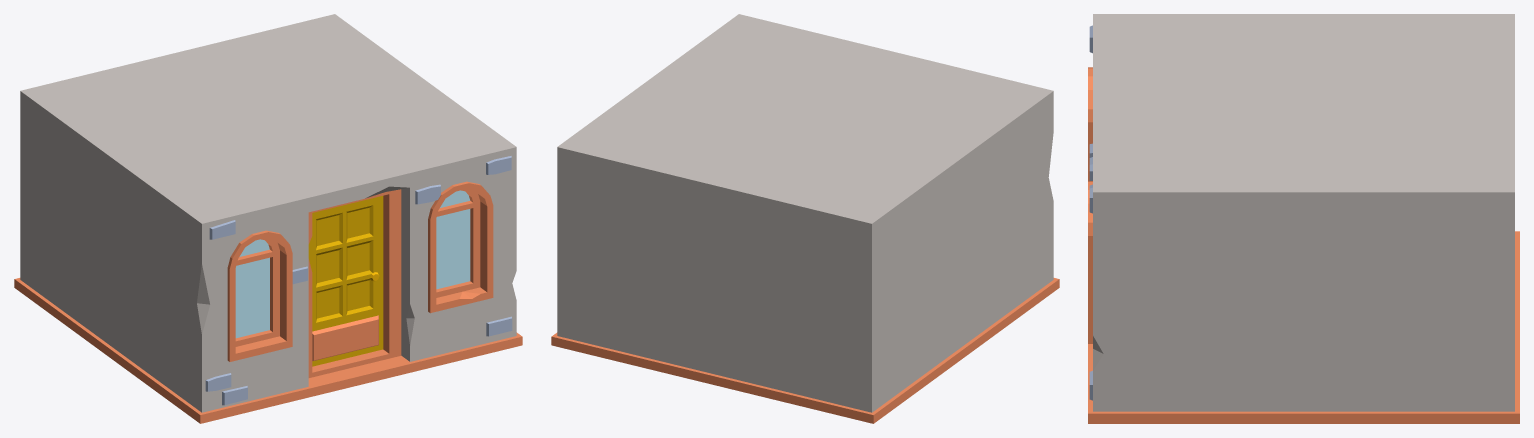
The model's file is SM_Bld_Apartment_Door_02_edit.fbx.
3 views of the same model, side by side, from view 1: azimuth 30°, elevation 25°; view 2: azimuth 150°, elevation 25°; view 3: azimuth 270°, elevation 25° (orthographic). The views are drawn at different scales.
Visible parts, largest first — view 1: SM_Bld_Apartment_Door_02; view 2: SM_Bld_Apartment_Door_02; view 3: SM_Bld_Apartment_Door_02.
Part boxes in pixels (box(x1,y1,x2,y2)): SM_Bld_Apartment_Door_02: box(14, 14, 522, 423); SM_Bld_Apartment_Door_02: box(551, 14, 1059, 423); SM_Bld_Apartment_Door_02: box(1088, 14, 1519, 423).
Size of the model in its own units: 51144 by 30000 by 51153.
